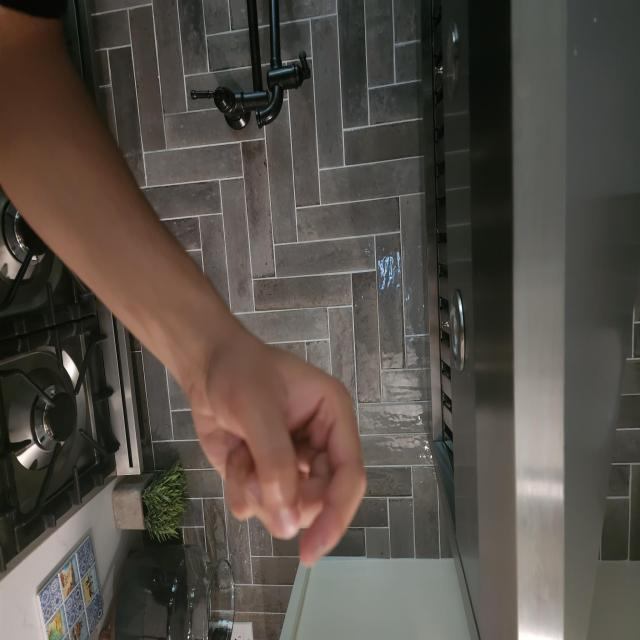Z: (394, 357, 592, 606)
